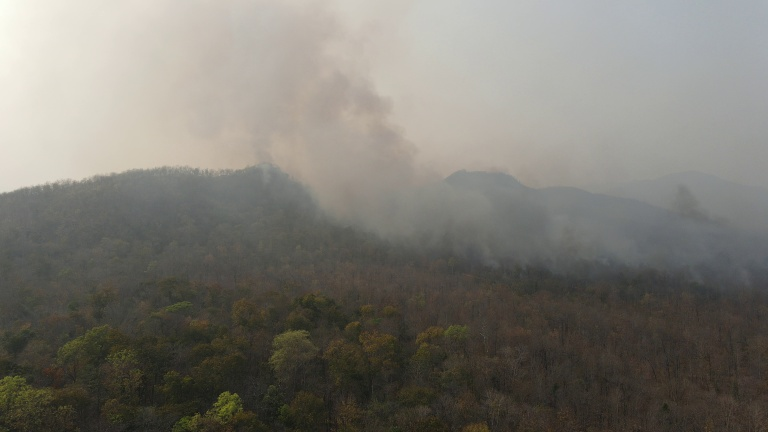smoke: (171, 2, 555, 271), (604, 174, 752, 277), (251, 125, 278, 188)
